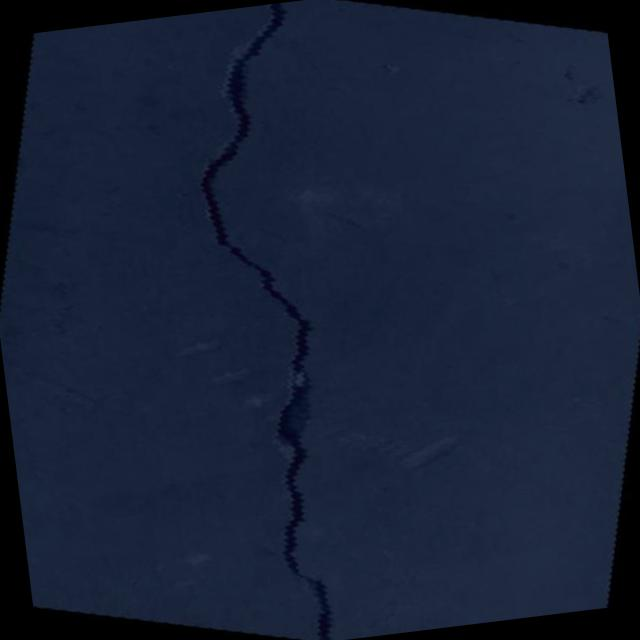crack: (72, 0, 487, 640)
